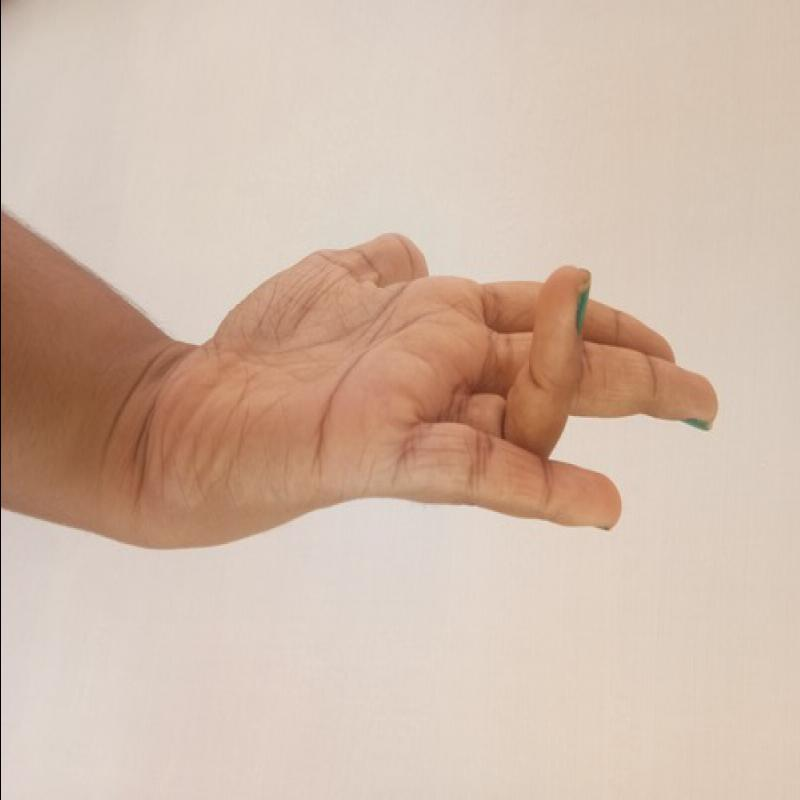Pathaaka: (152, 212, 726, 556)
